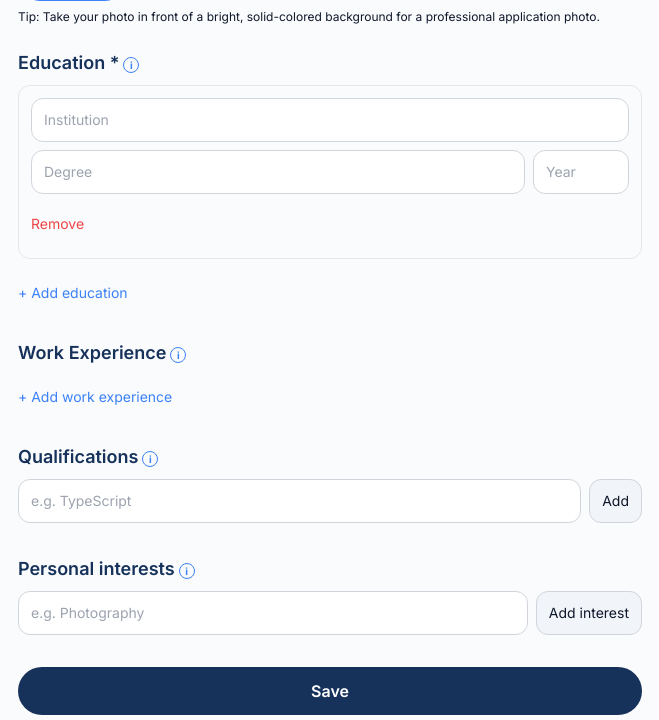
ProfileForm › Englisch (AC1) › übersetzt das Entfernen-Label für Qualifikations-Chips ins Englische
(page scrolled)
Type "TypeScript" into the field with placeholder "e.g. TypeScript" at x=300, y=501, box [18,479,581,523]
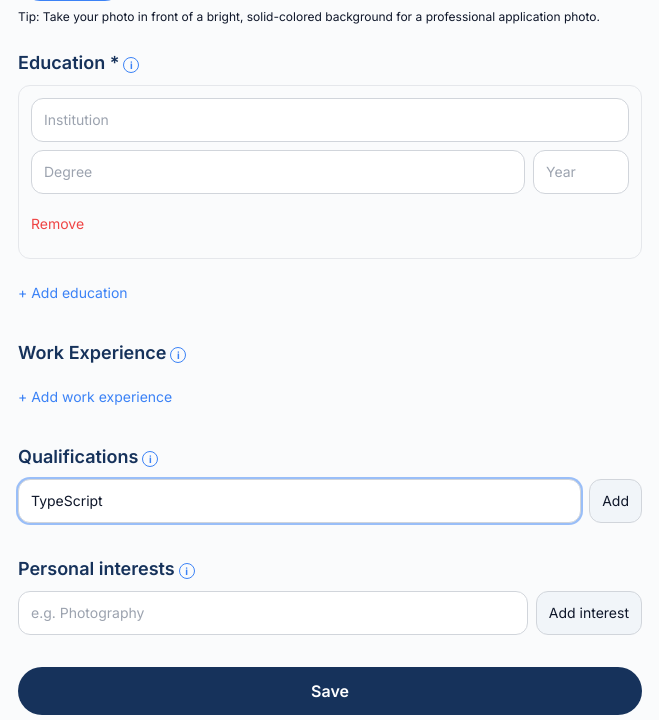
Click the button "Add" at x=616, y=501, box [589,479,642,523]
(page scrolled)
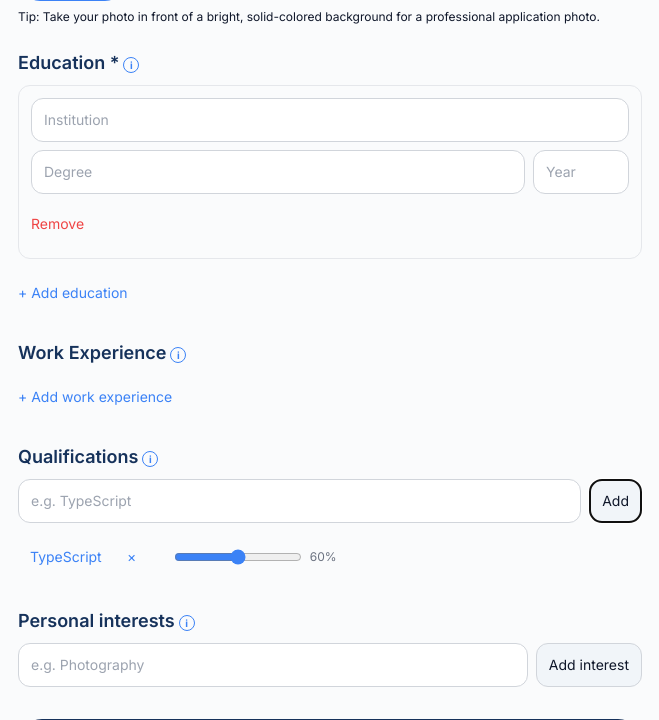
Check: the button named "remove typescript" is shown, box [110,535,154,579]
